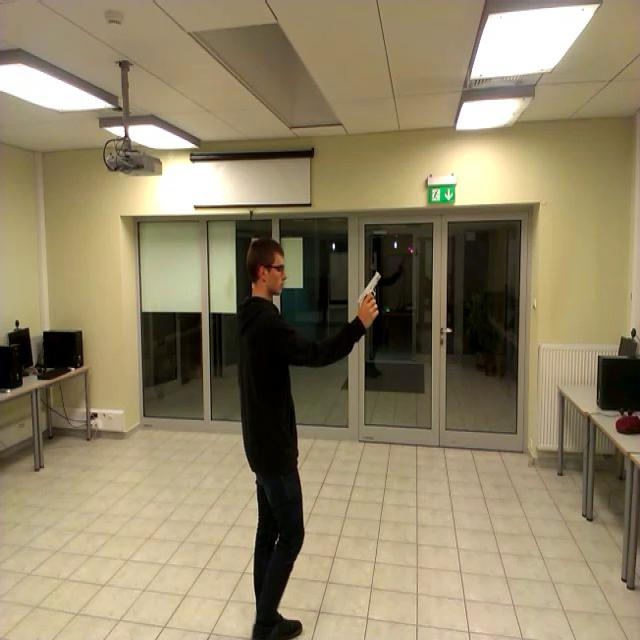handgun: (354, 266, 382, 324)
